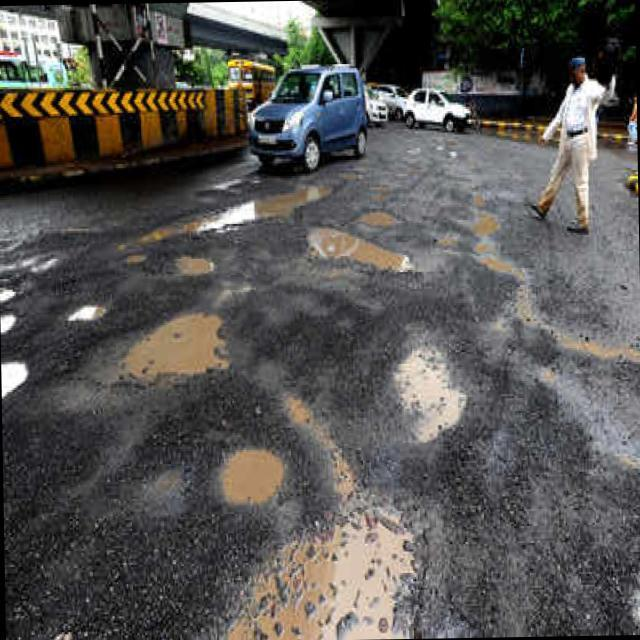Pothole: (256, 501, 434, 640), (120, 297, 236, 388), (388, 336, 464, 438), (303, 230, 417, 281), (215, 438, 283, 509), (1, 350, 32, 402), (352, 202, 406, 228), (175, 249, 215, 282), (64, 298, 106, 326)
